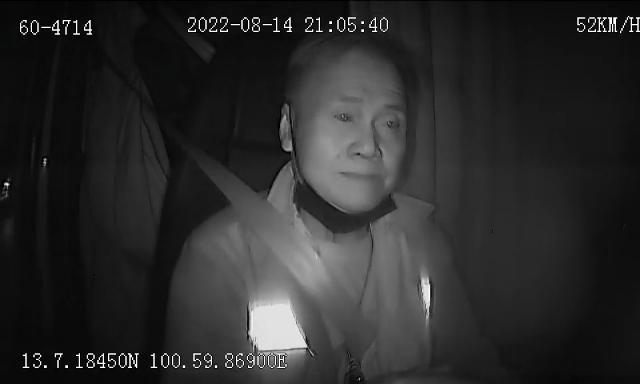SafeDriving: (373, 106, 409, 138), (326, 100, 364, 130)
Seatbelt: (198, 146, 384, 384)
